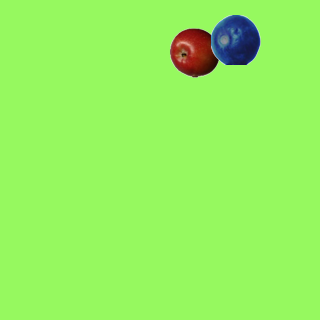Apple Braeburn: (169, 27, 219, 77)
Huckleberry: (210, 14, 260, 64)
